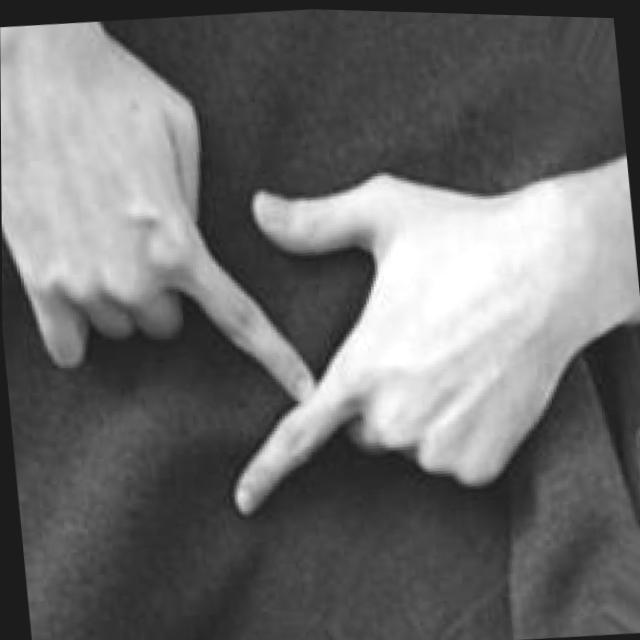F: (0, 0, 600, 546)
